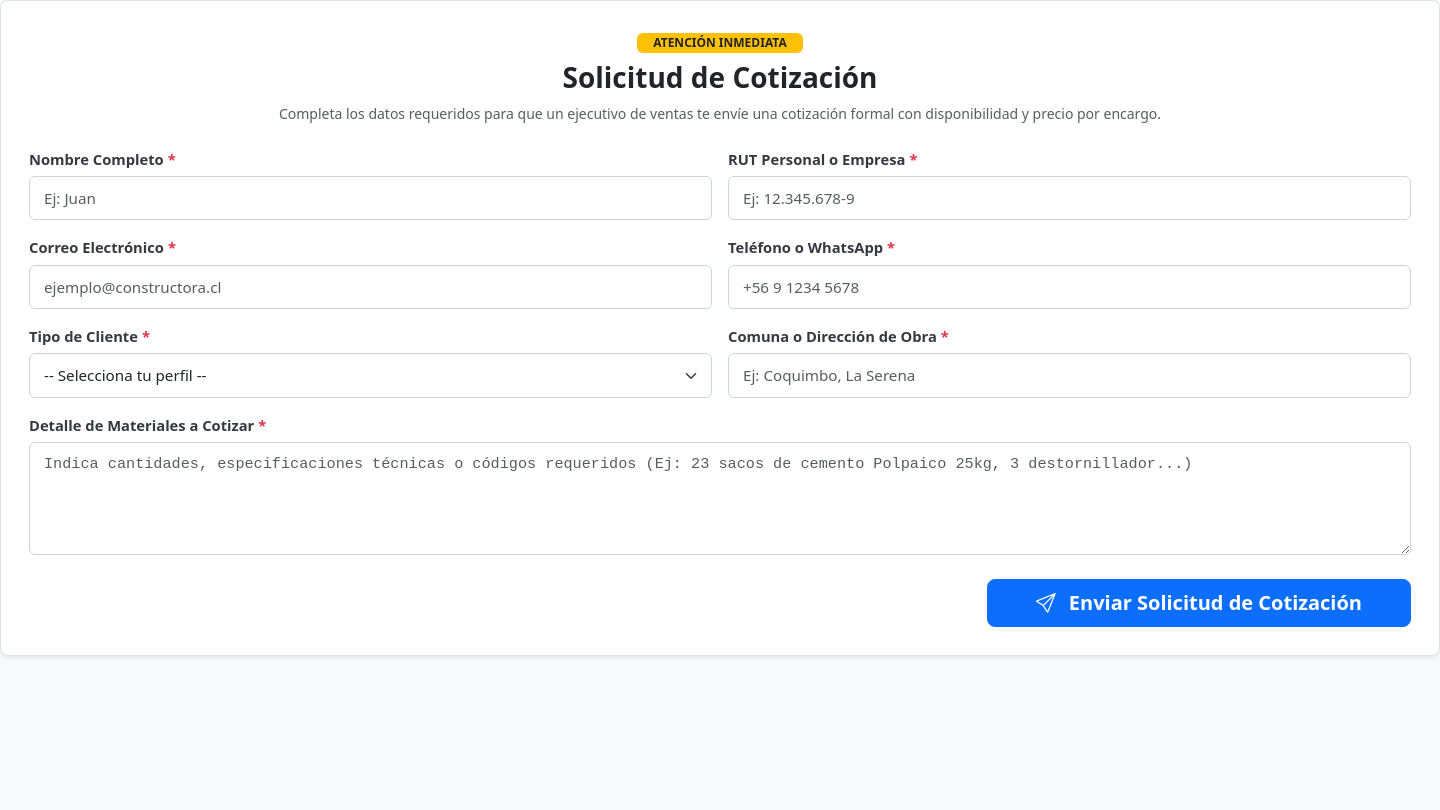
it: FormularioCotizacion › muestra los errores al enviar vacío, incluido el RUT
The image size is (1440, 810).
Click the button "Enviar Solicitud de Cotización". click: (1199, 603)
box: x1=987 y1=579 x2=1411 y2=627
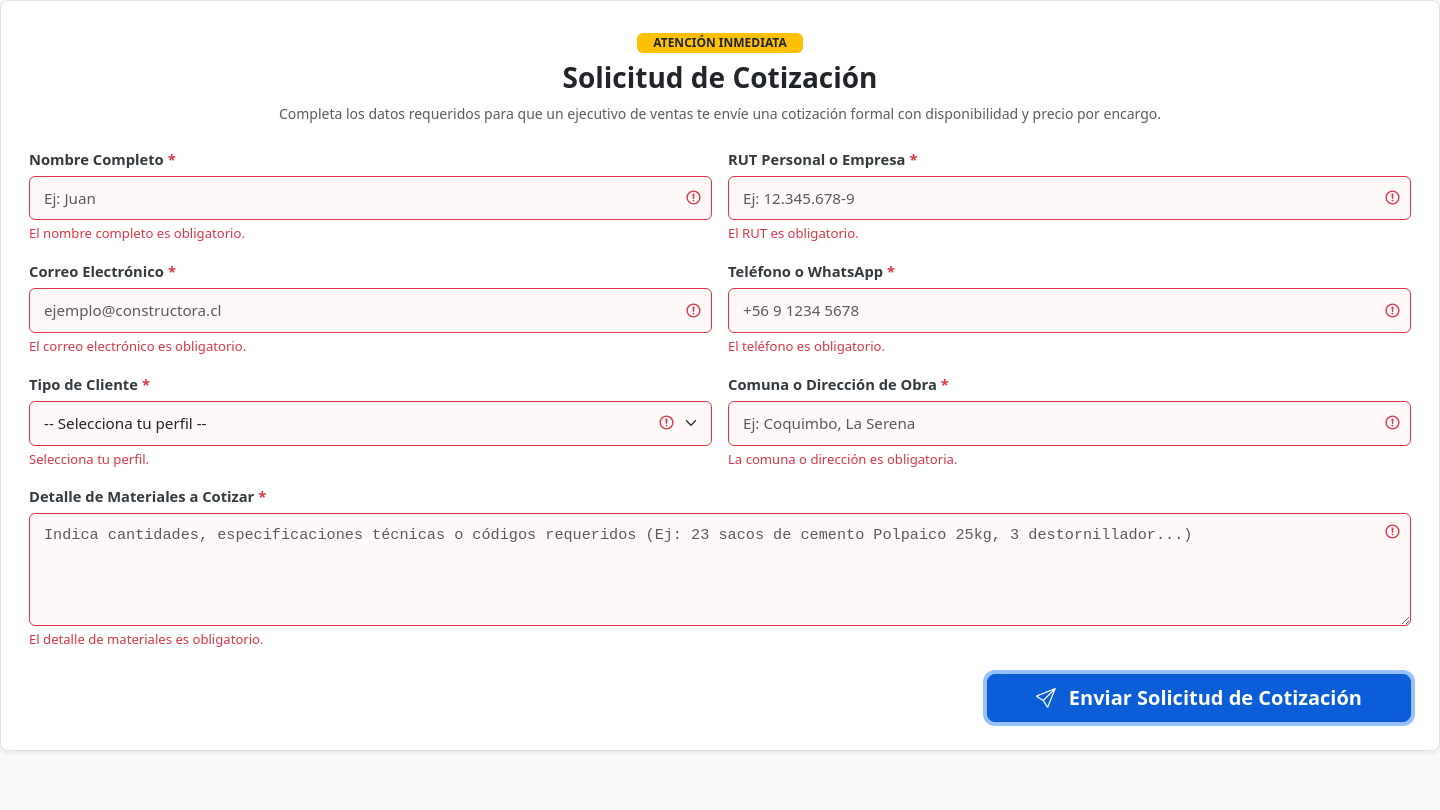
Expected: the text "El nombre completo es obligatorio." is shown, x1=29 y1=224 x2=245 y2=242
Expected: the text "El RUT es obligatorio." is shown, x1=728 y1=224 x2=859 y2=242
Expected: the text "El correo electrónico es obligatorio." is shown, x1=29 y1=337 x2=246 y2=355
